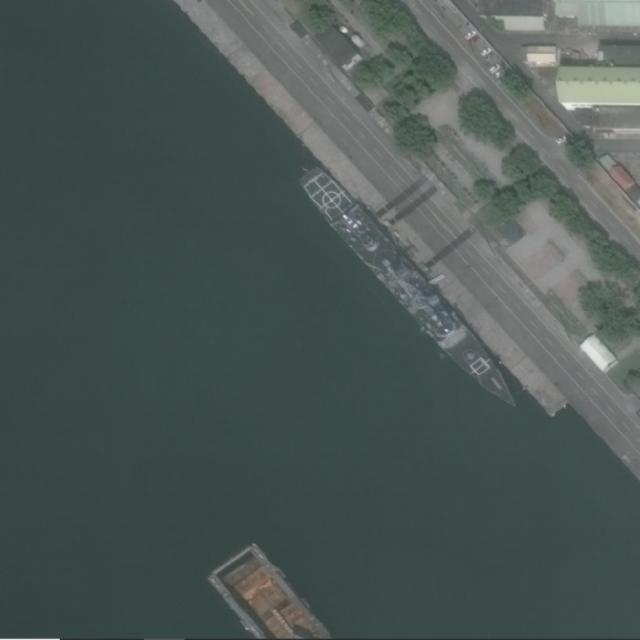Frigate: (297, 164, 529, 420)
